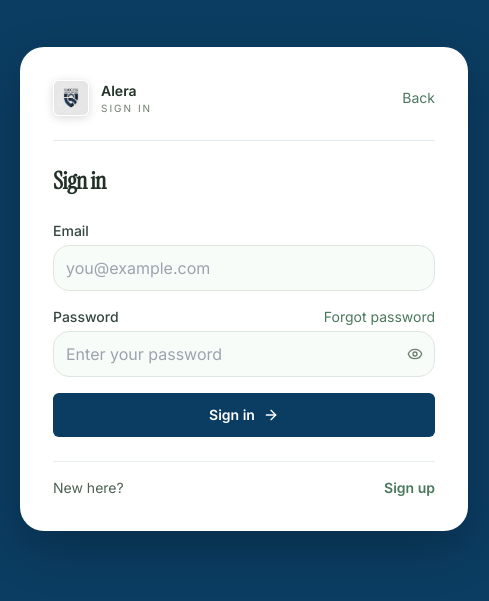
Test: Login page › surfaces backend authorization detail in the login error message
The width and height of the screenshot is (489, 601).
Check: the link "Forgot password" is shown, box [324, 307, 435, 327]
Type "doctor@example.com" into the field with placeholder "you@example.com".
click(244, 268); type("doctor@example.com")  # box [53, 245, 435, 291]
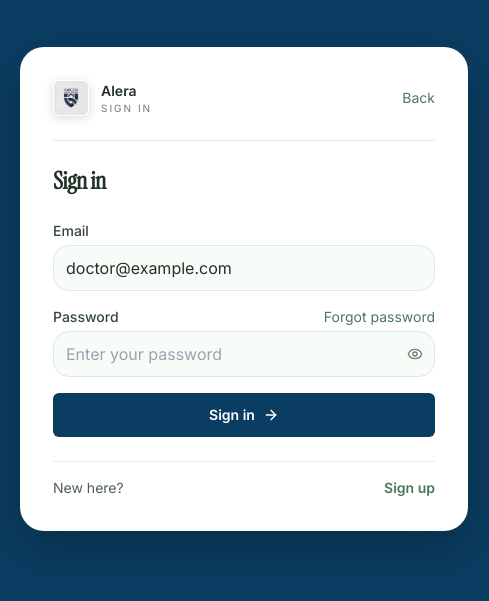
Type "password123" into the password field with placeholder "Enter your password".
click(244, 354); type("password123")  # box [53, 331, 435, 377]
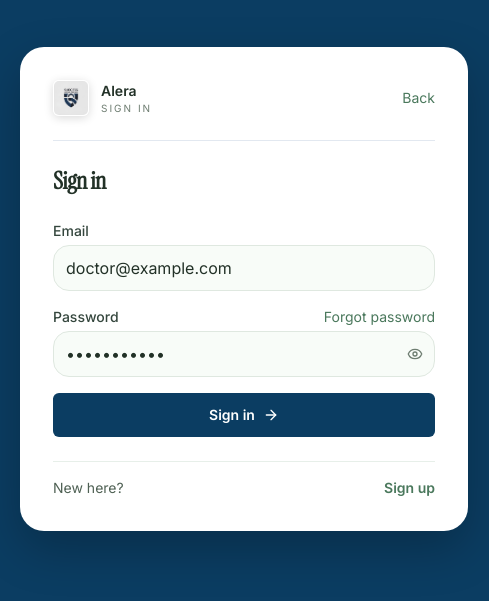
Click the button "Sign in".
click(244, 415)  # box [53, 393, 435, 437]
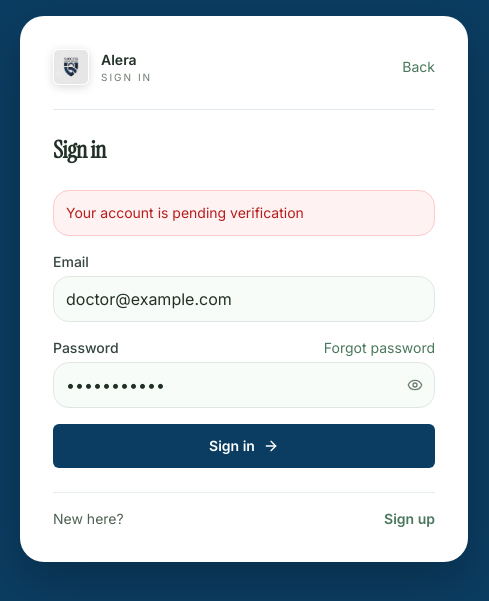
Check: the text "Your account is pending verification" is shown, box [53, 190, 435, 236]
